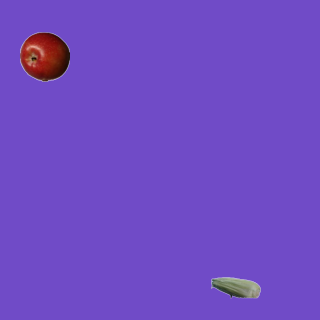Apple Braeburn: (19, 31, 69, 81)
Corn Husk: (210, 262, 260, 312)
